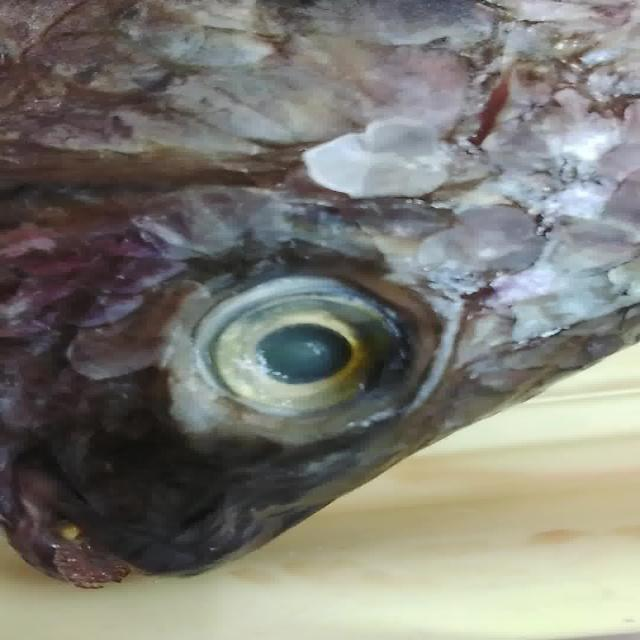Non-Fresh: (18, 9, 594, 258), (160, 276, 456, 444)
